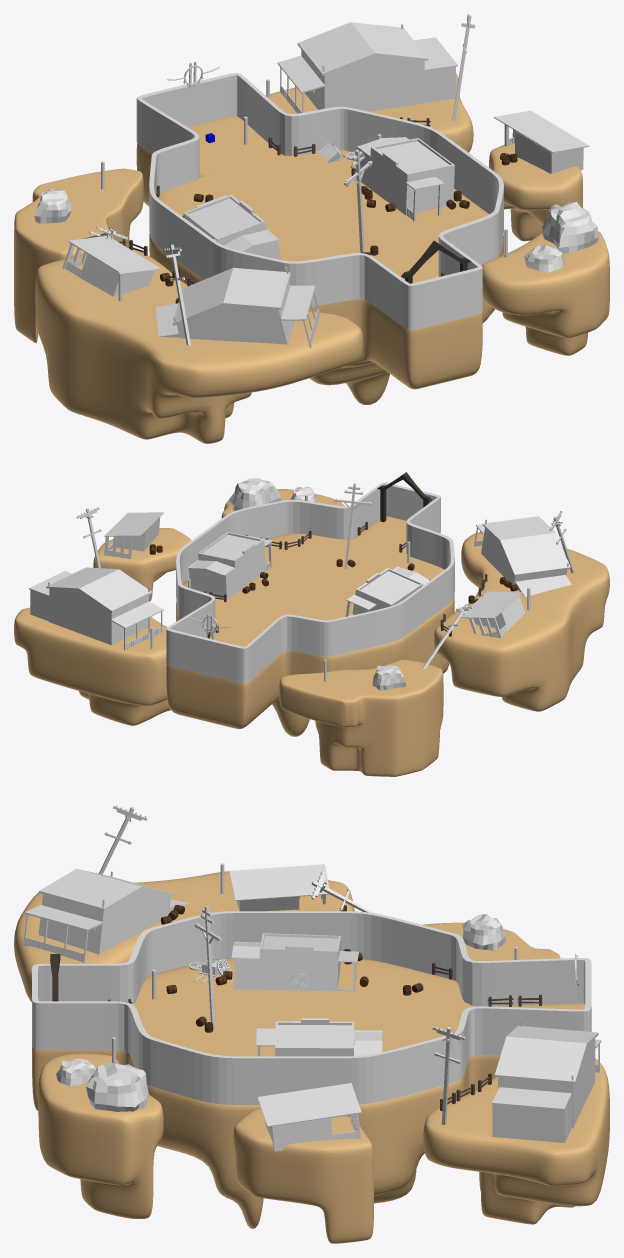
Rendered from Nivel2 Sala4.fbx.
3 views of the same model, one above another, from view 1: azimuth 30°, elevation 25°; view 2: azimuth 150°, elevation 25°; view 3: azimuth 270°, elevation 25° (orthographic). The views are drawn at different scales.
Parts seen in each view (by area): view 1: Limite.005, Base 2-5, Cube.095, Casa 2.004, Cube.092, Cube.094, Casa 2.005, Casa 1.011, Cube.096, Casa 3.008, Casa 1.012, Casa 3.009 (+7 smaller); view 2: Base 2-5, Limite.005, Cube.095, Cube.094, Cube.093, Casa 2.004, Casa 2.005, Casa 1.011, Cube.096, Casa 1.012, Casa 3.008, Casa 3.009 (+5 smaller); view 3: Limite.005, Base 2-5, Cube.093, Cube.092, Cube.096, Casa 2.004, Casa 2.005, Cube.095, Casa 1.012, Casa 3.009, Casa 1.011, Casa 3.008 (+7 smaller).
Part boxes in pixels (left/top/right/bottom): Limite.005: left=136, top=73, right=503, bottom=329; Base 2-5: left=136, top=116, right=503, bottom=404; Cube.095: left=35, top=249, right=363, bottom=443; Casa 2.004: left=277, top=22, right=457, bottom=113; Cube.092: left=482, top=231, right=609, bottom=355; Cube.094: left=14, top=168, right=143, bottom=342; Casa 2.005: left=155, top=267, right=320, bottom=347; Casa 1.011: left=357, top=137, right=454, bottom=221; Cube.096: left=489, top=143, right=582, bottom=241; Casa 3.008: left=62, top=236, right=161, bottom=296; Casa 1.012: left=183, top=194, right=280, bottom=259; Casa 3.009: left=494, top=110, right=589, bottom=173; Base 2-5: left=166, top=516, right=454, bottom=736; Limite.005: left=166, top=482, right=454, bottom=683; Cube.095: left=434, top=532, right=609, bottom=711; Cube.094: left=279, top=659, right=443, bottom=776; Cube.093: left=14, top=607, right=170, bottom=725; Casa 2.004: left=29, top=567, right=163, bottom=650; Casa 2.005: left=474, top=516, right=571, bottom=596; Casa 1.011: left=187, top=532, right=272, bottom=599; Cube.096: left=93, top=528, right=191, bottom=601; Casa 1.012: left=345, top=566, right=429, bottom=616; Casa 3.008: left=460, top=591, right=525, bottom=637; Casa 3.009: left=104, top=512, right=163, bottom=559; Limite.005: left=32, top=911, right=591, bottom=1104; Base 2-5: left=32, top=958, right=585, bottom=1228; Cube.093: left=423, top=1058, right=609, bottom=1224; Cube.092: left=38, top=1053, right=163, bottom=1218; Cube.096: left=233, top=1108, right=373, bottom=1243; Casa 2.004: left=492, top=1019, right=601, bottom=1142; Casa 2.005: left=23, top=868, right=189, bottom=962; Cube.095: left=14, top=871, right=354, bottom=1001; Casa 1.012: left=231, top=933, right=358, bottom=991; Casa 3.009: left=257, top=1083, right=361, bottom=1151; Casa 1.011: left=256, top=1018, right=382, bottom=1056; Casa 3.008: left=229, top=864, right=329, bottom=911.
Bounding box in the file's own units: 18281 × 8890 × 16259.
